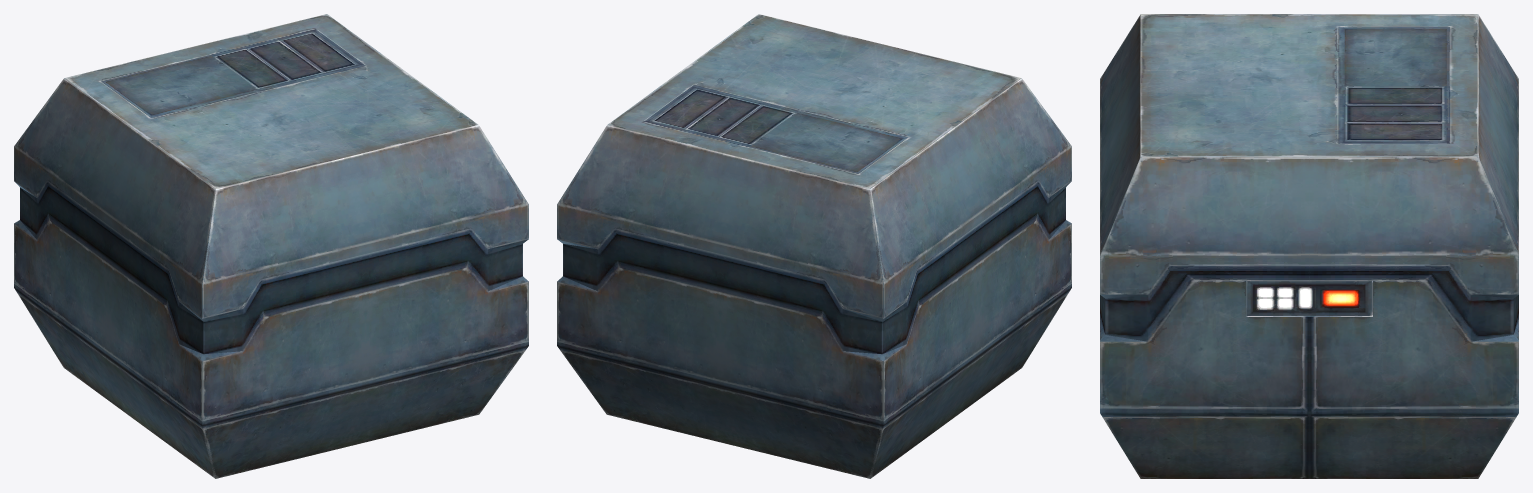
The model's file is kor_vodl_item_shipping_crate.glb.
The picture shows the model from 3 angles, left to right: view 1: azimuth 30°, elevation 25°; view 2: azimuth 150°, elevation 25°; view 3: azimuth 270°, elevation 25°; orthographic projection. The views are drawn at different scales.
Visible parts, largest first — view 1: kor_vodl_item_shipping_crate; view 2: kor_vodl_item_shipping_crate; view 3: kor_vodl_item_shipping_crate.
Boxes of the visible parts, left/top/right/bottom form: kor_vodl_item_shipping_crate: left=14, top=14, right=528, bottom=478; kor_vodl_item_shipping_crate: left=557, top=14, right=1071, bottom=478; kor_vodl_item_shipping_crate: left=1100, top=14, right=1518, bottom=478.
Bounding box in the file's own units: 0.2 × 0.1695 × 0.1997.
1 material, 1 textured.
